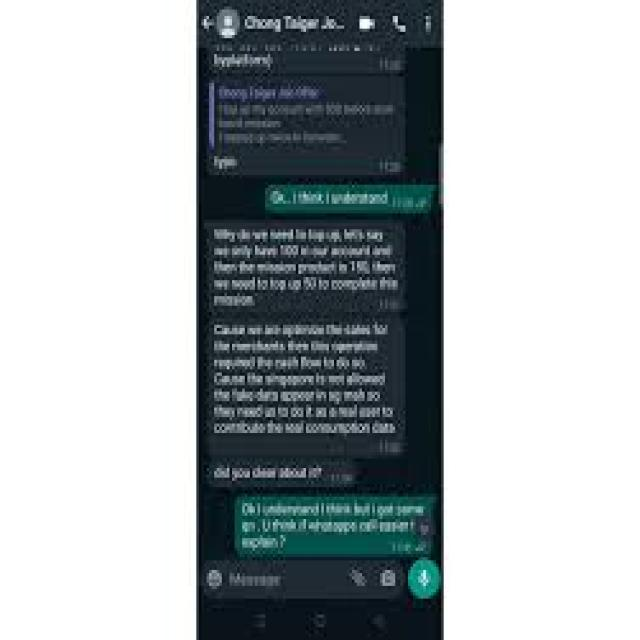text: (206, 223, 408, 456), (208, 48, 407, 173), (210, 454, 335, 485)
